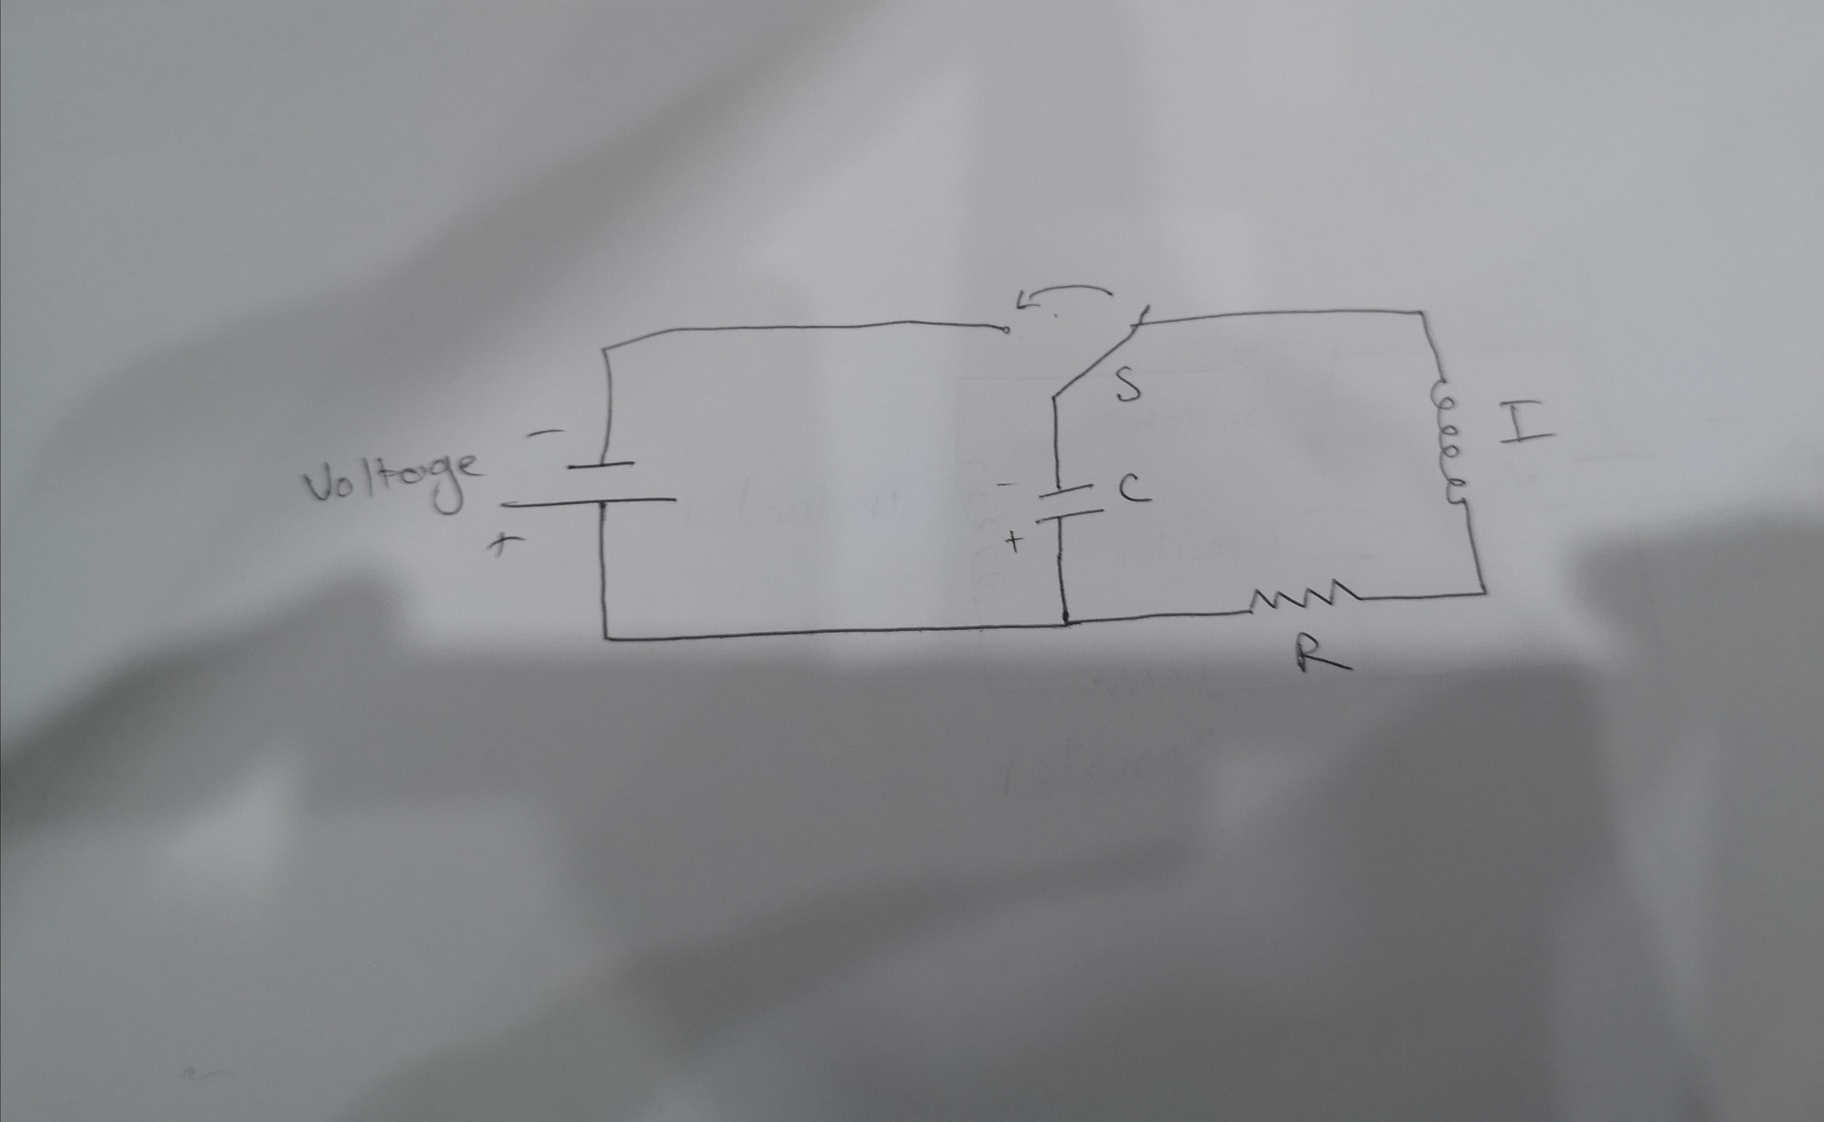capacitor.polarized: (993, 477, 1110, 556)
inductor: (1428, 371, 1476, 515)
junction: (1467, 577, 1500, 605), (1051, 609, 1080, 636), (590, 338, 618, 364), (594, 624, 619, 650), (1408, 304, 1434, 324)
resistor: (1238, 577, 1363, 615)
switch: (999, 278, 1154, 408)
text: (296, 444, 489, 517), (1290, 629, 1355, 678), (1498, 396, 1556, 443), (1114, 468, 1156, 510), (1107, 364, 1144, 401)
voltage.dc: (492, 453, 685, 521)
